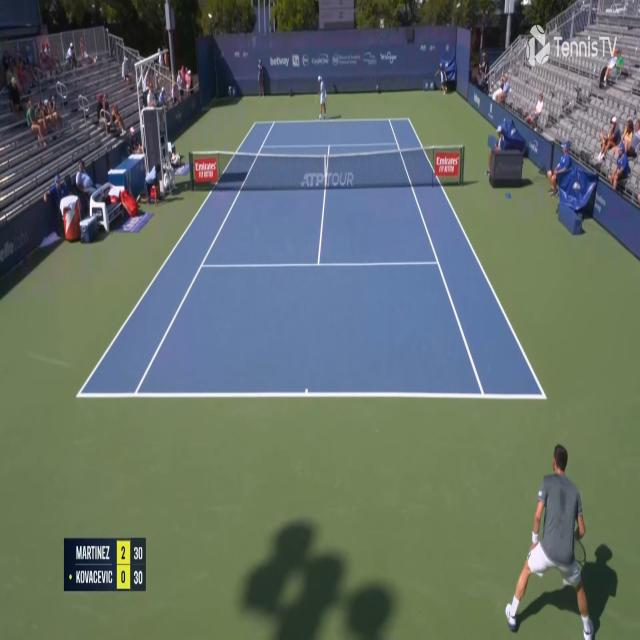tennis-player: (503, 439, 591, 638), (316, 74, 327, 122)
